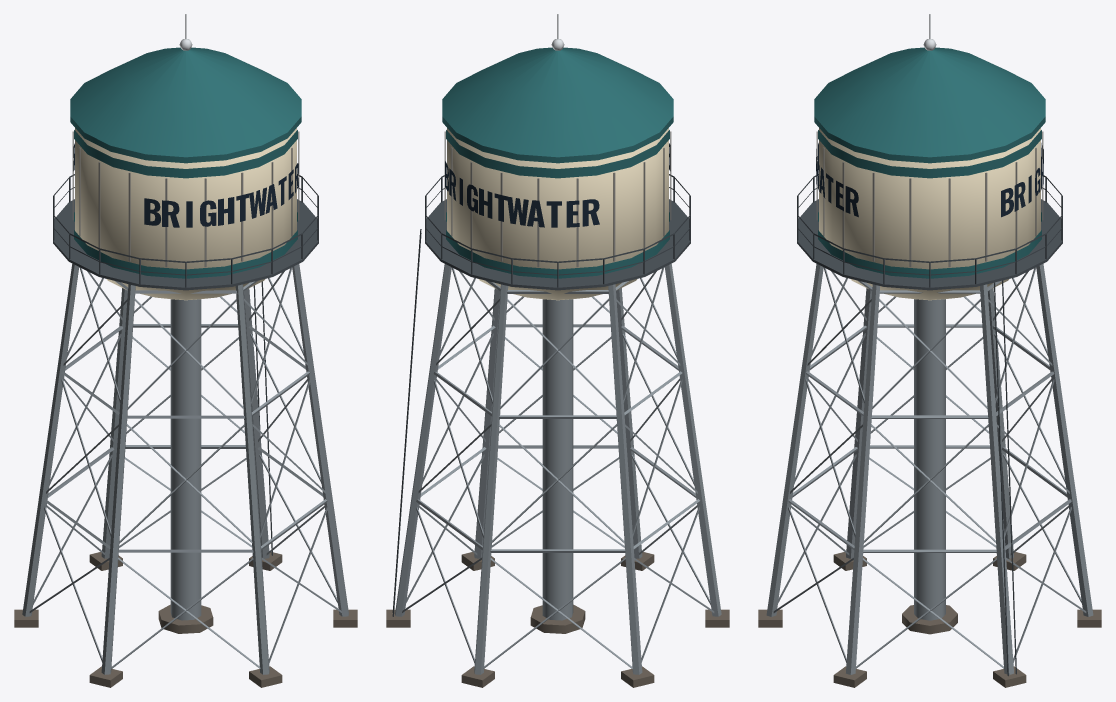
Rendered from Town_WaterTower.fbx.
The picture shows the model from 3 angles, left to right: view 1: azimuth 30°, elevation 25°; view 2: azimuth 150°, elevation 25°; view 3: azimuth 270°, elevation 25°; orthographic projection.
Parts seen in each view (by area): view 1: Decor; view 2: Decor; view 3: Decor.
Boxes of the visible parts, x1=… form: Decor: x1=14, y1=14, x2=357, y2=687; Decor: x1=386, y1=14, x2=729, y2=687; Decor: x1=758, y1=14, x2=1101, y2=687.
Size of the model in its own units: 33 by 71.57 by 36.6.
